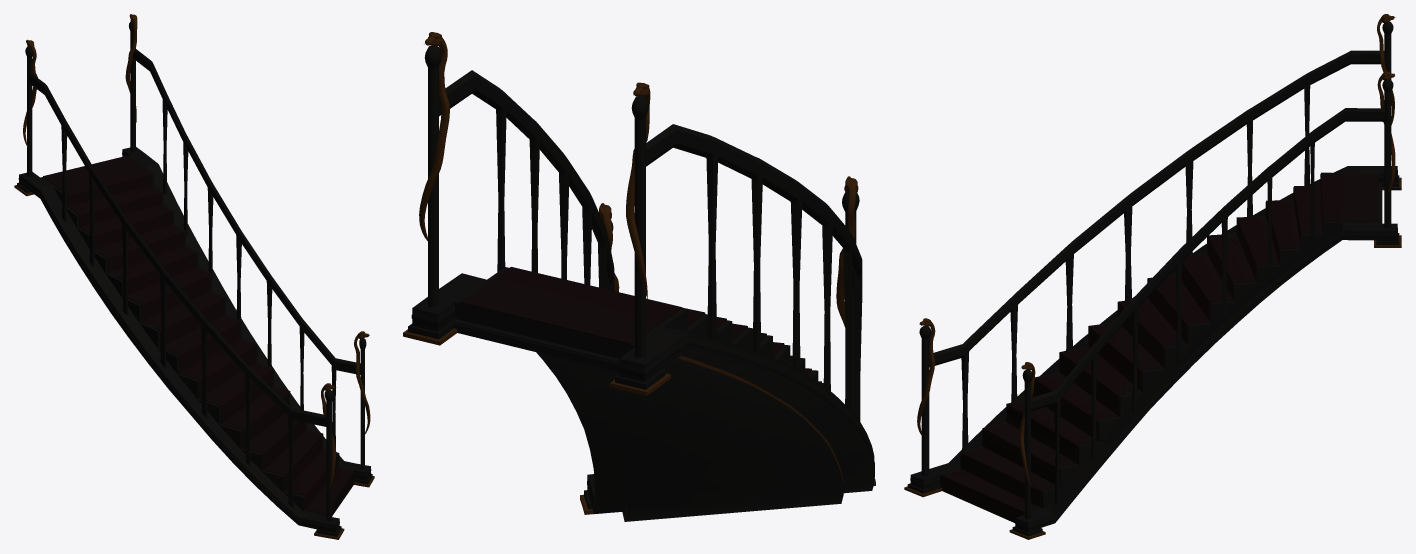
Rendered from Staircase_Left.FBX.
The picture shows the model from 3 angles, left to right: view 1: azimuth 30°, elevation 25°; view 2: azimuth 150°, elevation 25°; view 3: azimuth 270°, elevation 25°; orthographic projection. The views are drawn at different scales.
Visible parts, largest first — view 1: Stairscase_L; view 2: Stairscase_L; view 3: Stairscase_L.
Part boxes in pixels (left/top/right/bottom): Stairscase_L: left=14, top=14, right=374, bottom=539; Stairscase_L: left=403, top=32, right=875, bottom=521; Stairscase_L: left=904, top=14, right=1401, bottom=539.
Bounding box in the file's own units: 3.17 × 5.67 × 6.08.
